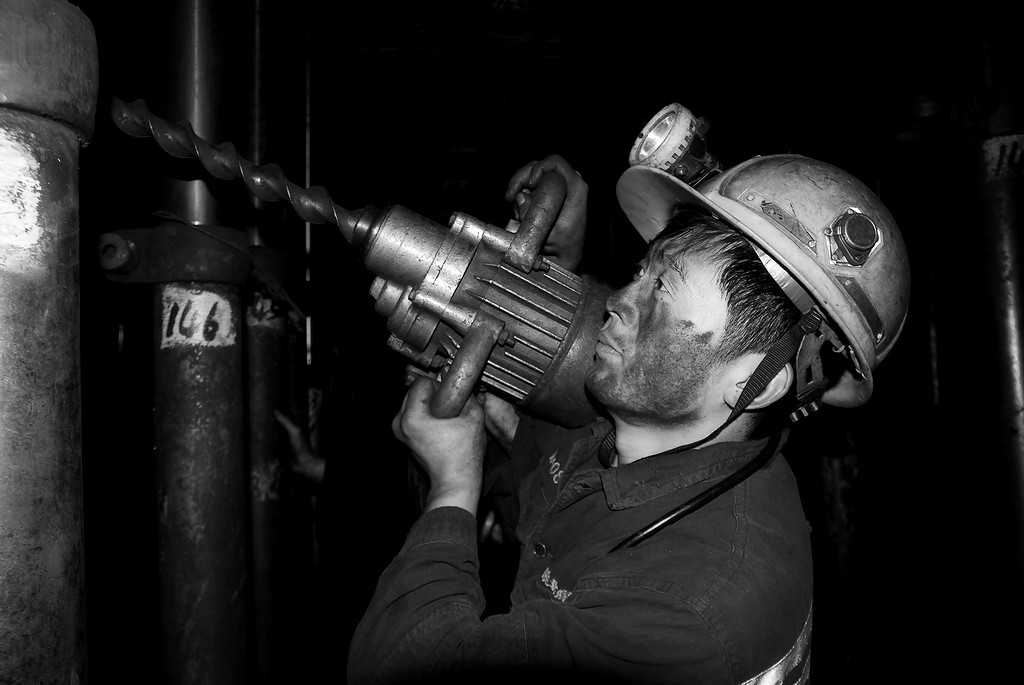helmet: (628, 97, 909, 437)
